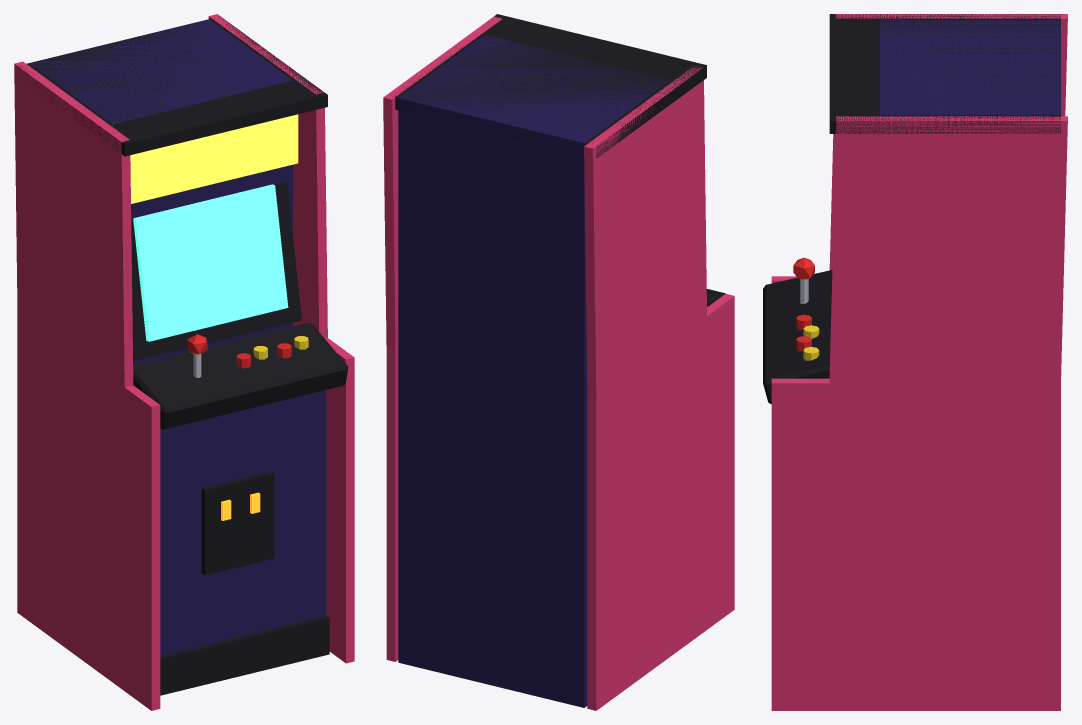
Rendered from arcade.glb.
3 renders of one model, left to right at view 1: azimuth 30°, elevation 25°; view 2: azimuth 150°, elevation 25°; view 3: azimuth 270°, elevation 25°, orthographic. The views are drawn at different scales.
Parts seen in each view (by area): view 1: Arcade; view 2: Arcade; view 3: Arcade.
Boxes of the visible parts, x1=… form: Arcade: x1=14, y1=14, x2=354, y2=710; Arcade: x1=383, y1=14, x2=734, y2=710; Arcade: x1=763, y1=14, x2=1067, y2=710.
Size of the model in its own units: 0.7 by 1.8 by 0.8429.
